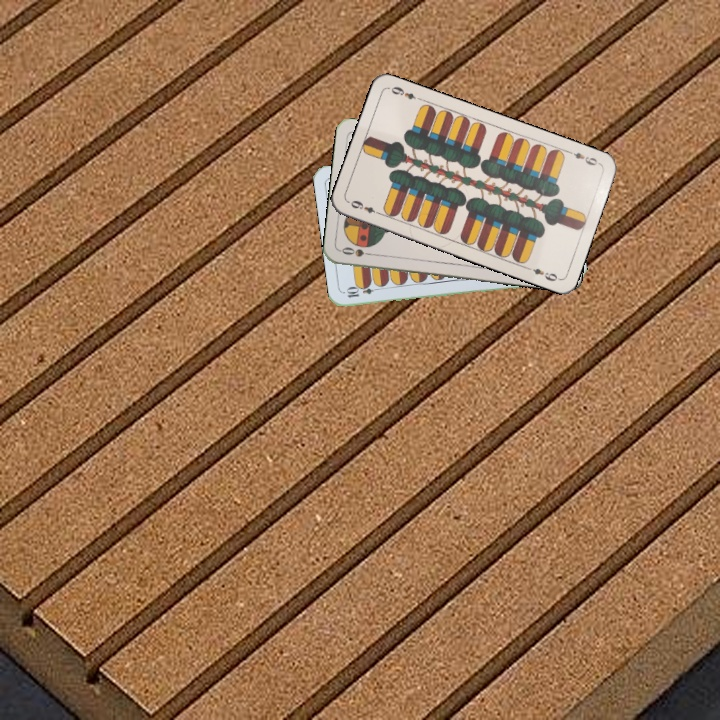E10: (342, 282, 383, 300)
E9: (346, 196, 384, 218), (564, 147, 603, 168)
SO: (338, 243, 378, 259)
